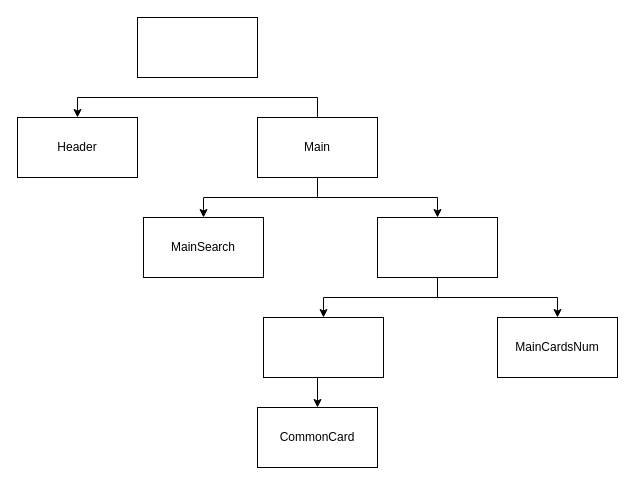
Image size: 635x485. Some labels were removed from this diagram. The shapes that lost their labels are listed below. From the top down, each one's centre as x and y in pixels, then its label:
At point 197,47: "App".
At point 437,247: "MainCards".
At point 323,347: "MainCardsList".
